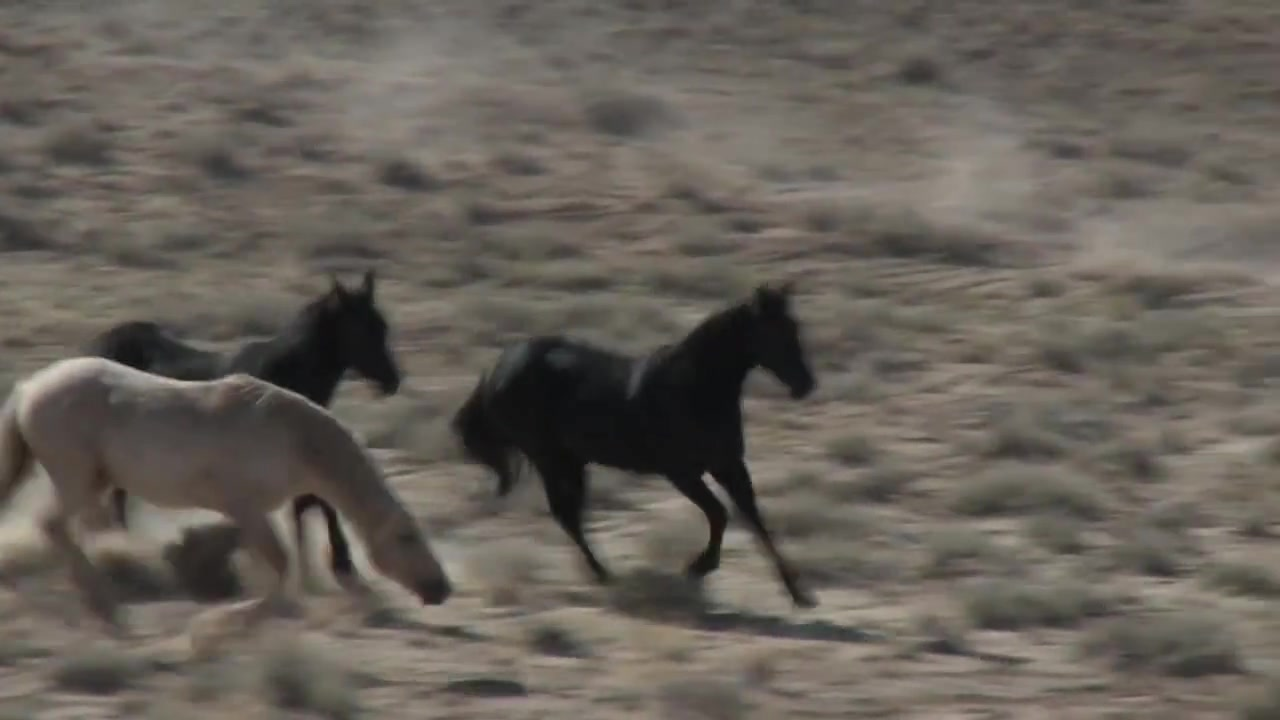horse: (1, 354, 451, 661), (451, 280, 822, 612), (88, 265, 403, 594)
